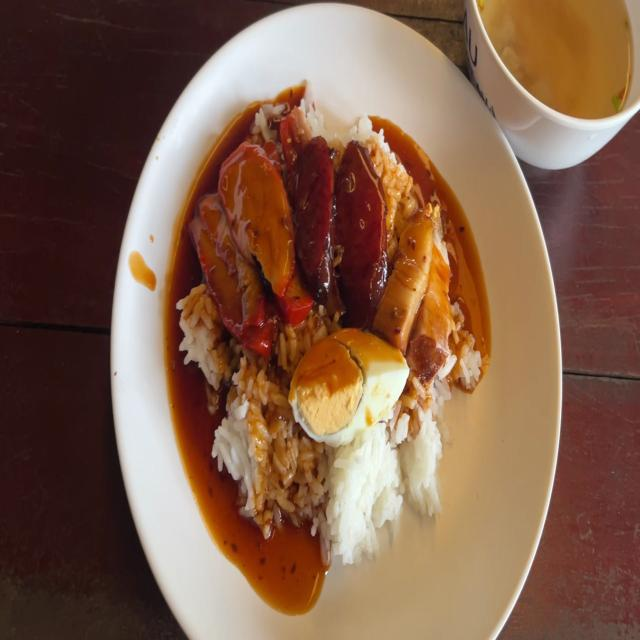01boiled_egg: (295, 336, 398, 430)
01chainese_sausage: (294, 138, 388, 309), (340, 142, 386, 308), (294, 137, 336, 290)
01crispy_pork: (390, 198, 454, 353), (388, 223, 432, 338), (420, 220, 452, 353)
01red_pork: (200, 157, 300, 345), (219, 134, 289, 272), (196, 205, 263, 335)
01red_pork_and_crispy_pork: (183, 89, 480, 542)
01rice: (288, 434, 448, 540), (210, 358, 292, 504)
